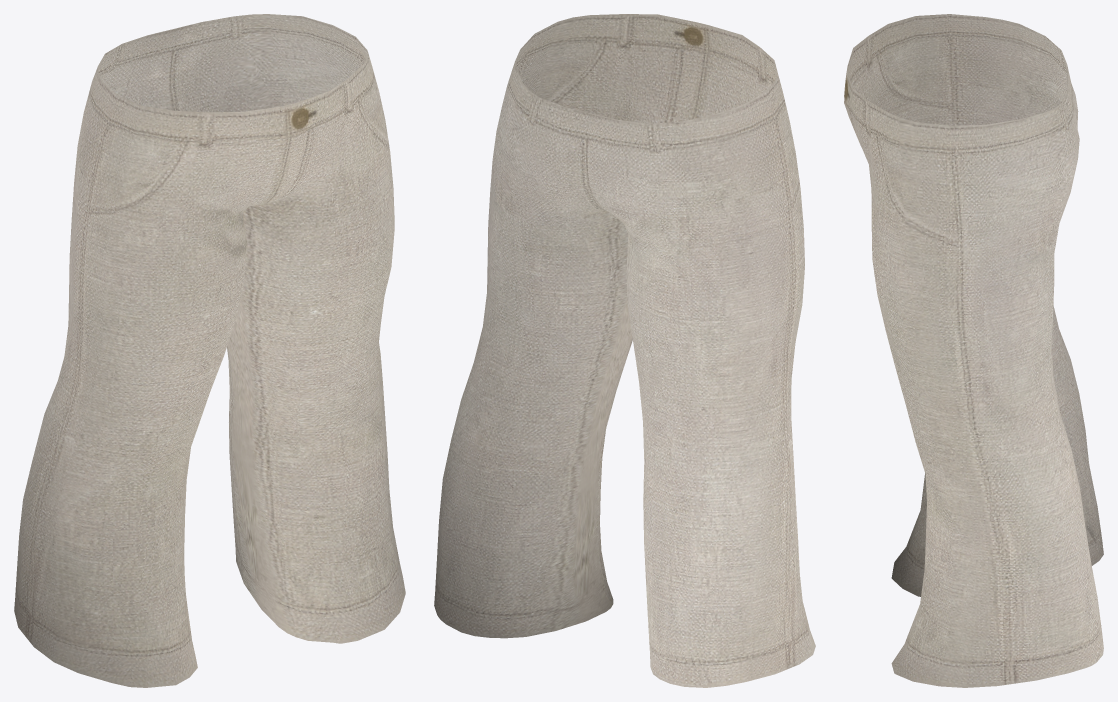
Rendered from Pants.glb.
The picture shows the model from 3 angles, left to right: view 1: azimuth 30°, elevation 25°; view 2: azimuth 150°, elevation 25°; view 3: azimuth 270°, elevation 25°; orthographic projection. The views are drawn at different scales.
Parts seen in each view (by area): view 1: Pants; view 2: Pants; view 3: Pants.
Boxes of the visible parts, bbox=[...] form: Pants: bbox=[14, 14, 405, 687]; Pants: bbox=[434, 14, 815, 687]; Pants: bbox=[844, 14, 1103, 687].
Size of the model in its own units: 8.04 by 12.5 by 5.31.
Materials: 1 (1 with a texture image).
